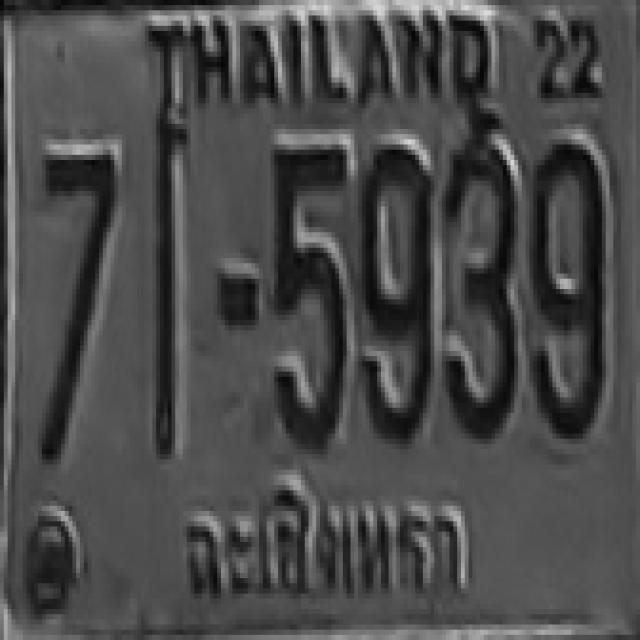3: (440, 137, 516, 436)
5: (270, 142, 343, 446), (270, 142, 343, 317)
7: (42, 150, 114, 366), (42, 150, 114, 346), (42, 150, 114, 325)
9: (357, 139, 432, 439), (528, 140, 604, 433)
Chachoengsao: (166, 474, 478, 603)
